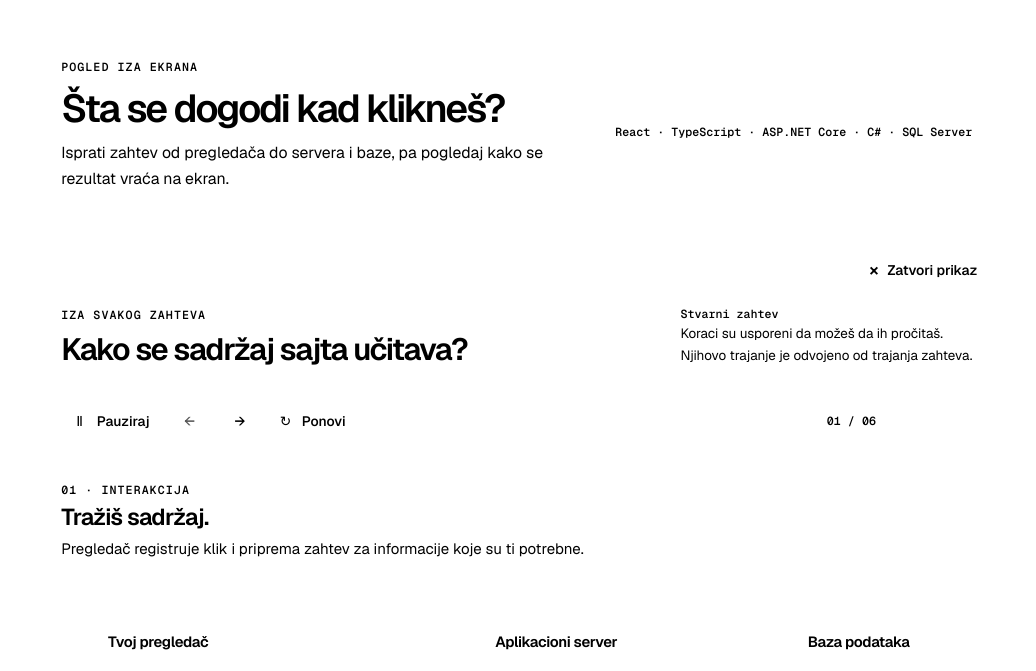
Test: keeps the stored "Engineering Expertise" in JSON and renders the correct title in both languages
Earlier steps of the test are not shown.
(page scrolled)
Click the button named "Sledeći korak": coordinates (240, 421) [218,399,262,443]
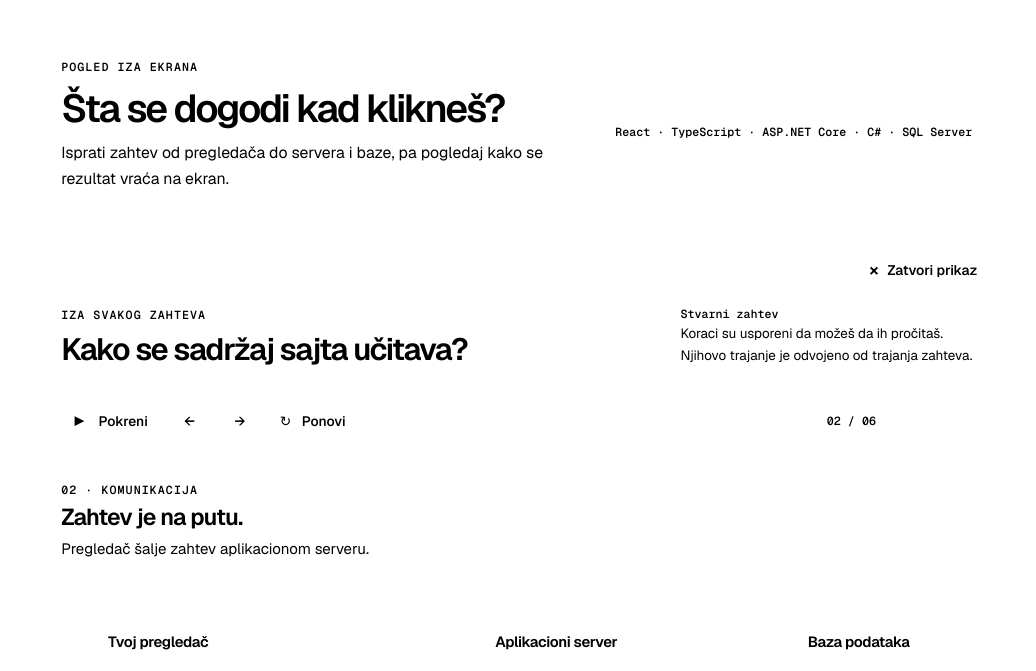
Click the button named "Sledeći korak": coordinates (240, 421) [218,399,262,443]
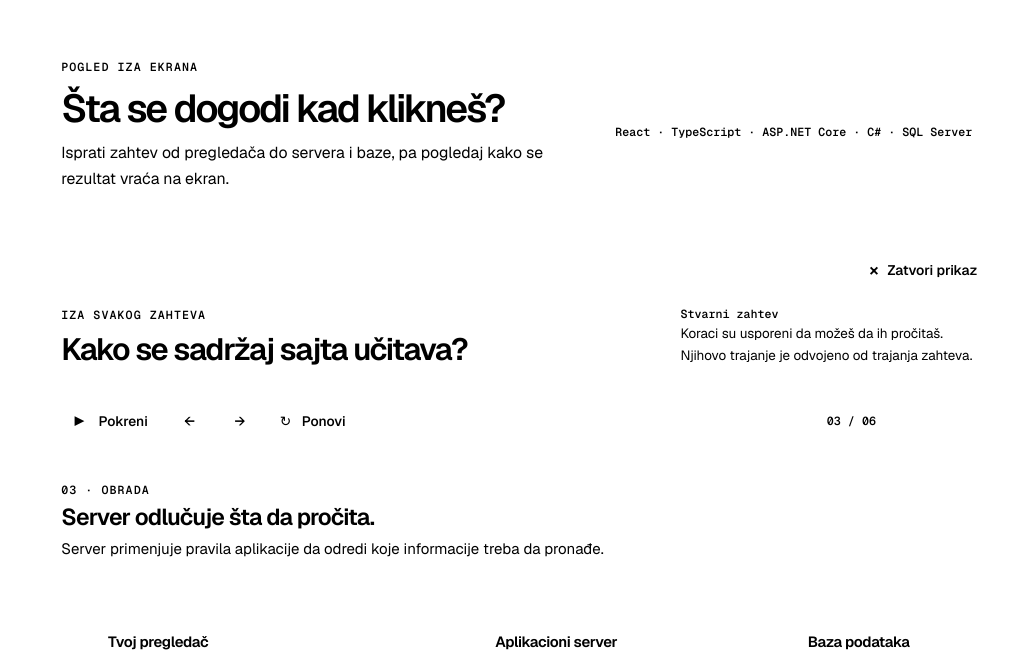
Click the button named "Sledeći korak": coordinates (240, 421) [218,399,262,443]
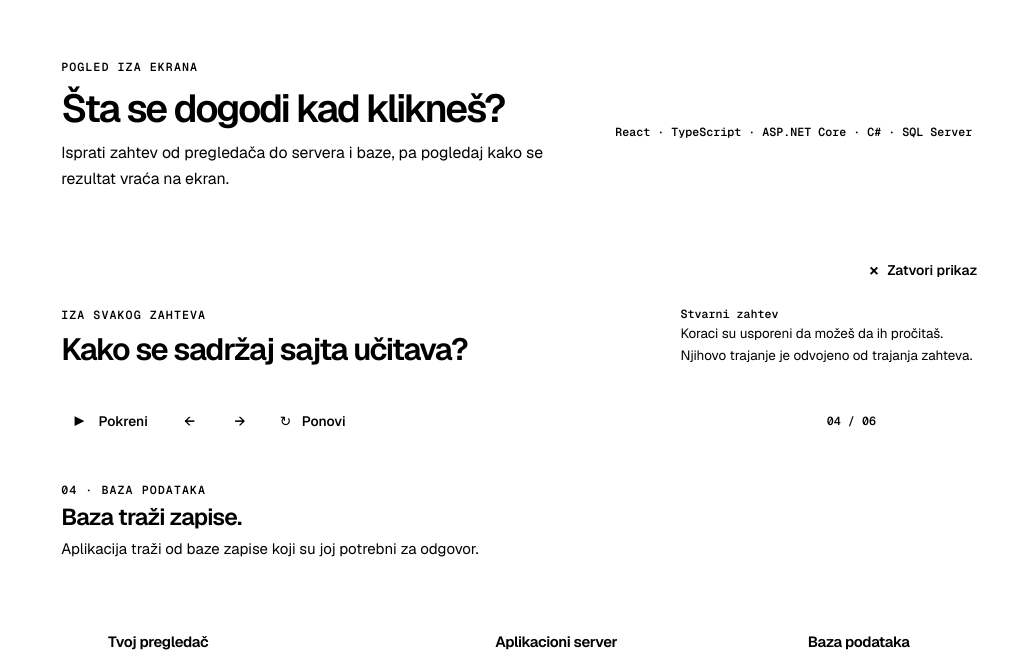
Click the button named "Sledeći korak": coordinates (240, 421) [218,399,262,443]
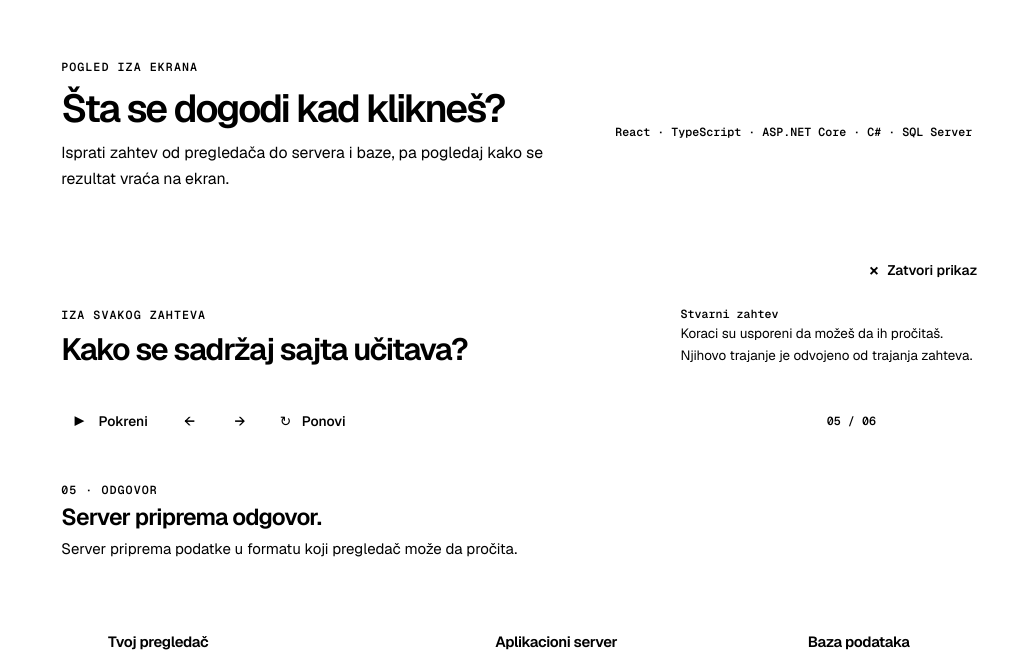
Click the button named "Sledeći korak": coordinates (240, 421) [218,399,262,443]
(page scrolled)
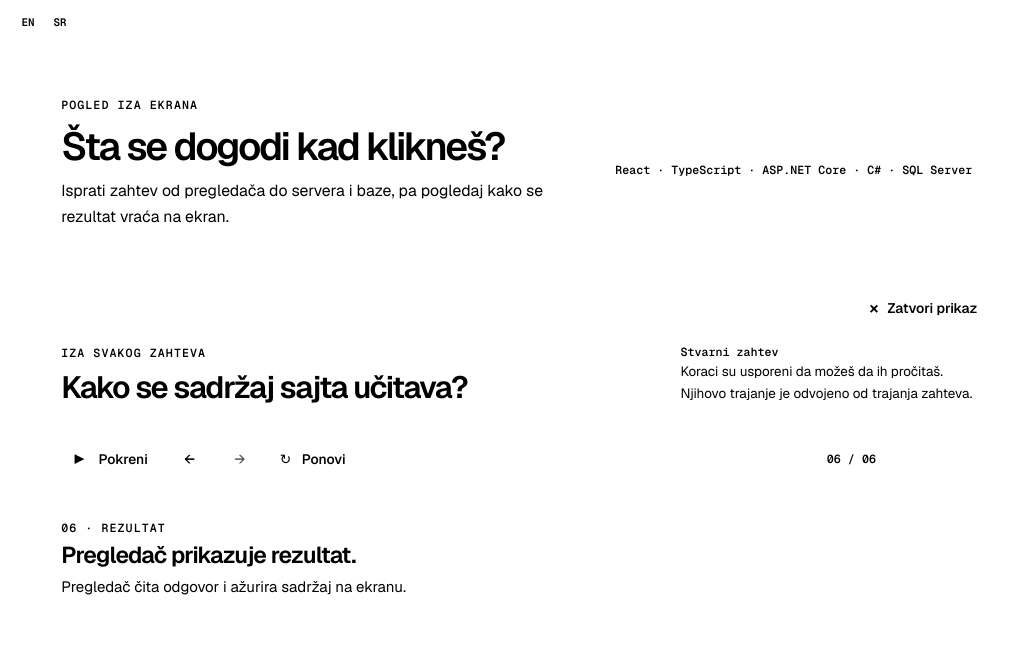
Click the switch: coordinates (44, 22) [12,0,76,44]
(page scrolled)
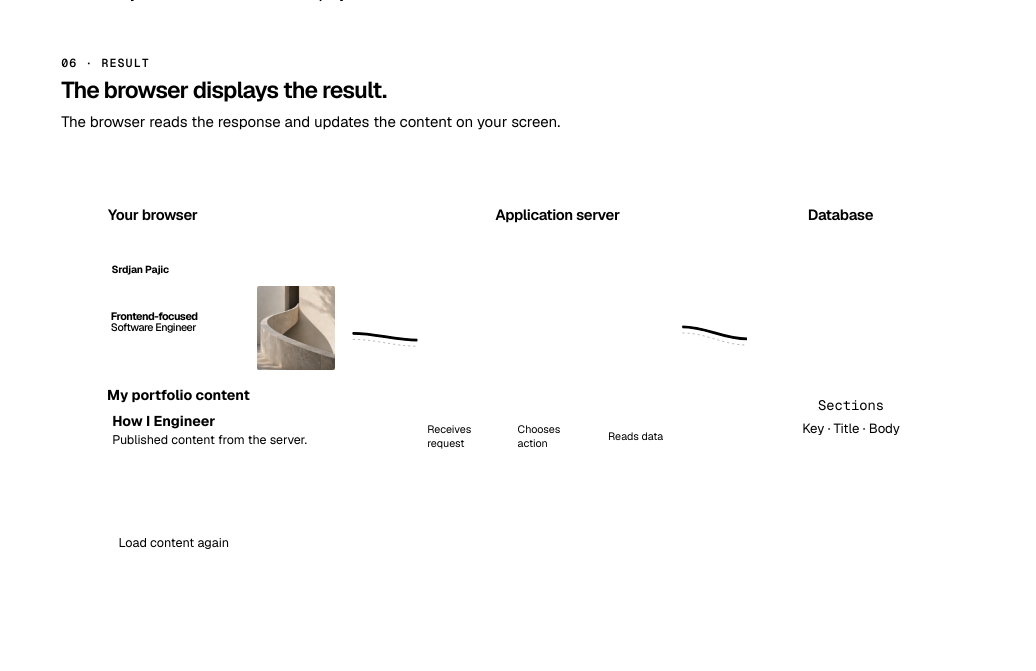
Now the text "How I Engineer" is shown, box [112,412,215,430]
